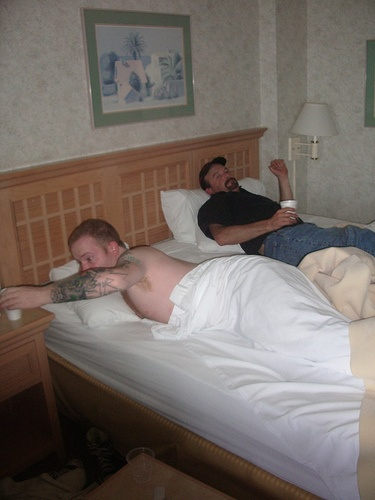head: (69, 218, 125, 272), (193, 153, 241, 202)
person: (1, 210, 373, 327), (193, 152, 375, 284)
